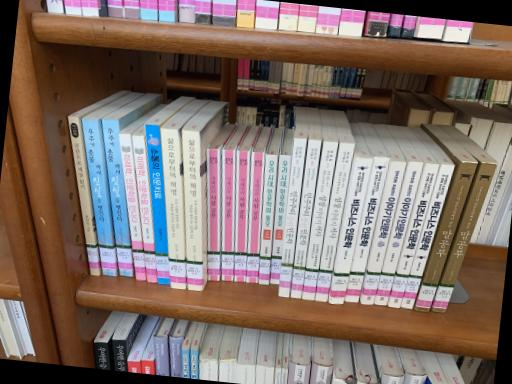book-spine: (432, 163, 497, 312), (416, 161, 477, 311), (401, 164, 454, 309), (389, 163, 439, 308), (374, 161, 423, 305), (345, 156, 390, 302), (315, 142, 355, 301), (330, 157, 372, 304), (362, 161, 405, 304), (302, 141, 338, 300), (82, 118, 116, 276), (67, 116, 98, 275), (290, 139, 321, 298), (102, 118, 133, 276), (277, 138, 306, 297), (144, 124, 170, 284), (160, 128, 185, 289), (119, 134, 146, 280), (132, 136, 157, 282), (181, 130, 203, 290), (270, 154, 291, 284), (259, 154, 278, 284), (247, 152, 263, 283), (235, 150, 250, 282), (206, 149, 219, 281), (222, 150, 234, 280)
